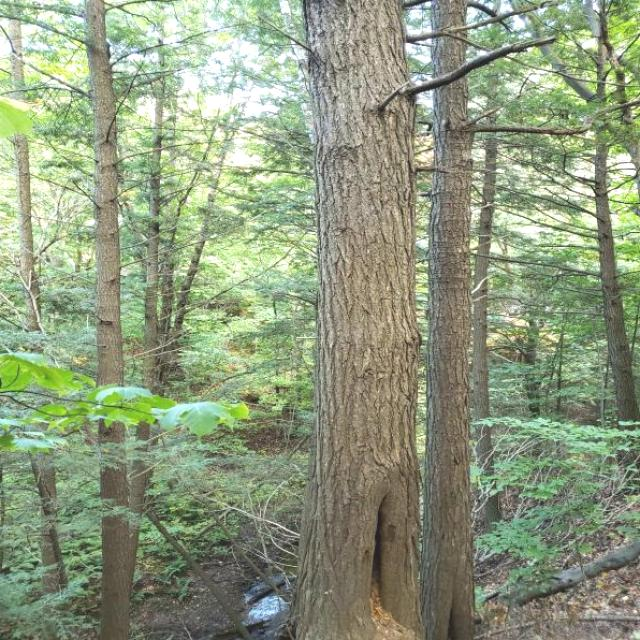fallen_object: (435, 499, 640, 640)
